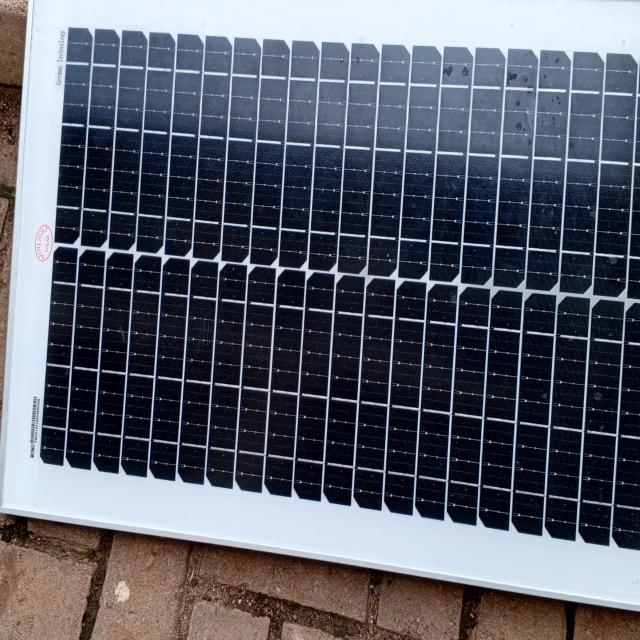Clean: (42, 16, 640, 503)
